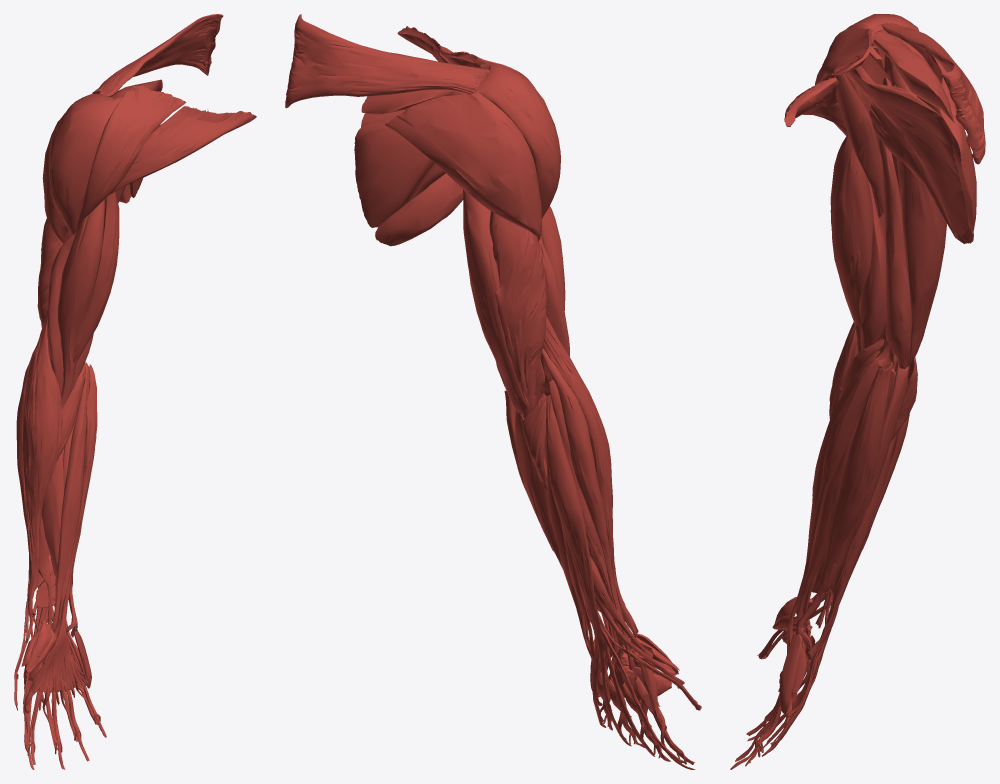
The model's file is muscular.upper_limb_right.glb.
3 views of the same model, side by side, from view 1: azimuth 30°, elevation 25°; view 2: azimuth 150°, elevation 25°; view 3: azimuth 270°, elevation 25° (orthographic). The views are drawn at different scales.
Visible parts, largest first — view 1: right_brachioradialis, clavicular_part_of_right_deltoid, acromial_part_of_right_deltoid, long_head_of_right_biceps_brachii, clavicular_part_of_right_pectoralis_major, right_palmaris_longus, transverse_part_of_right_trapezius, right_flexor_digitorum_superficialis, right_flexor_carpi_radialis, short_head_of_right_biceps_brachii, right_brachialis, lateral_head_of_right_triceps_brachii (+9 smaller); view 2: spinal_part_of_right_deltoid, transverse_part_of_right_trapezius, lateral_head_of_right_triceps_brachii, right_extensor_digitorum, right_infraspinatus, acromial_part_of_right_deltoid, long_head_of_right_triceps_brachii, right_extensor_carpi_radialis_longus, right_brachioradialis, right_teres_major, ulnar_head_of_right_flexor_carpi_ulnaris, right_extensor_carpi_radialis_brevis (+10 smaller); view 3: right_subscapularis, short_head_of_right_biceps_brachii, long_head_of_right_triceps_brachii, humeral_head_of_right_flexor_carpi_ulnaris, medial_head_of_right_triceps_brachii, right_palmaris_longus, transverse_part_of_right_trapezius, right_coracobrachialis, right_brachialis, right_supraspinatus, right_flexor_digitorum_superficialis, ulnar_head_of_right_flexor_carpi_ulnaris (+18 smaller).
Part boxes in pixels (x1,y1,x2,y2): right_brachioradialis: (22,309,62,619); clavicular_part_of_right_deltoid: (76,85,186,232); acromial_part_of_right_deltoid: (49,93,122,234); long_head_of_right_biceps_brachii: (58,199,104,407); clavicular_part_of_right_pectoralis_major: (109,106,256,194); right_palmaris_longus: (30,364,97,693); transverse_part_of_right_trapezius: (92,14,223,96); right_flexor_digitorum_superficialis: (27,398,100,756); right_flexor_carpi_radialis: (51,361,89,632); short_head_of_right_biceps_brachii: (73,192,119,362); right_brachialis: (47,233,93,394); lateral_head_of_right_triceps_brachii: (37,218,76,328); spinal_part_of_right_deltoid: (383,90,541,241); transverse_part_of_right_trapezius: (285,14,489,108); lateral_head_of_right_triceps_brachii: (489,211,546,416); right_extensor_digitorum: (546,395,684,762); right_infraspinatus: (354,119,434,227); acromial_part_of_right_deltoid: (475,63,560,218); long_head_of_right_triceps_brachii: (463,190,529,415); right_extensor_carpi_radialis_longus: (541,348,635,669); right_brachioradialis: (543,316,638,637); right_teres_major: (375,173,463,246); ulnar_head_of_right_flexor_carpi_ulnaris: (515,411,563,569); right_extensor_carpi_radialis_brevis: (549,379,623,671); right_subscapularis: (847,65,968,238); short_head_of_right_biceps_brachii: (830,72,873,325); long_head_of_right_triceps_brachii: (893,84,946,367); humeral_head_of_right_flexor_carpi_ulnaris: (795,362,892,648); medial_head_of_right_triceps_brachii: (879,138,911,368); right_palmaris_longus: (778,357,879,704); transverse_part_of_right_trapezius: (882,22,985,164); right_coracobrachialis: (834,73,884,217); right_brachialis: (860,180,886,350); right_supraspinatus: (873,30,954,123); right_flexor_digitorum_superficialis: (754,359,882,757); ulnar_head_of_right_flexor_carpi_ulnaris: (821,361,909,592).
Size of the model in its own units: 0.3232 by 0.7166 by 0.1976.
